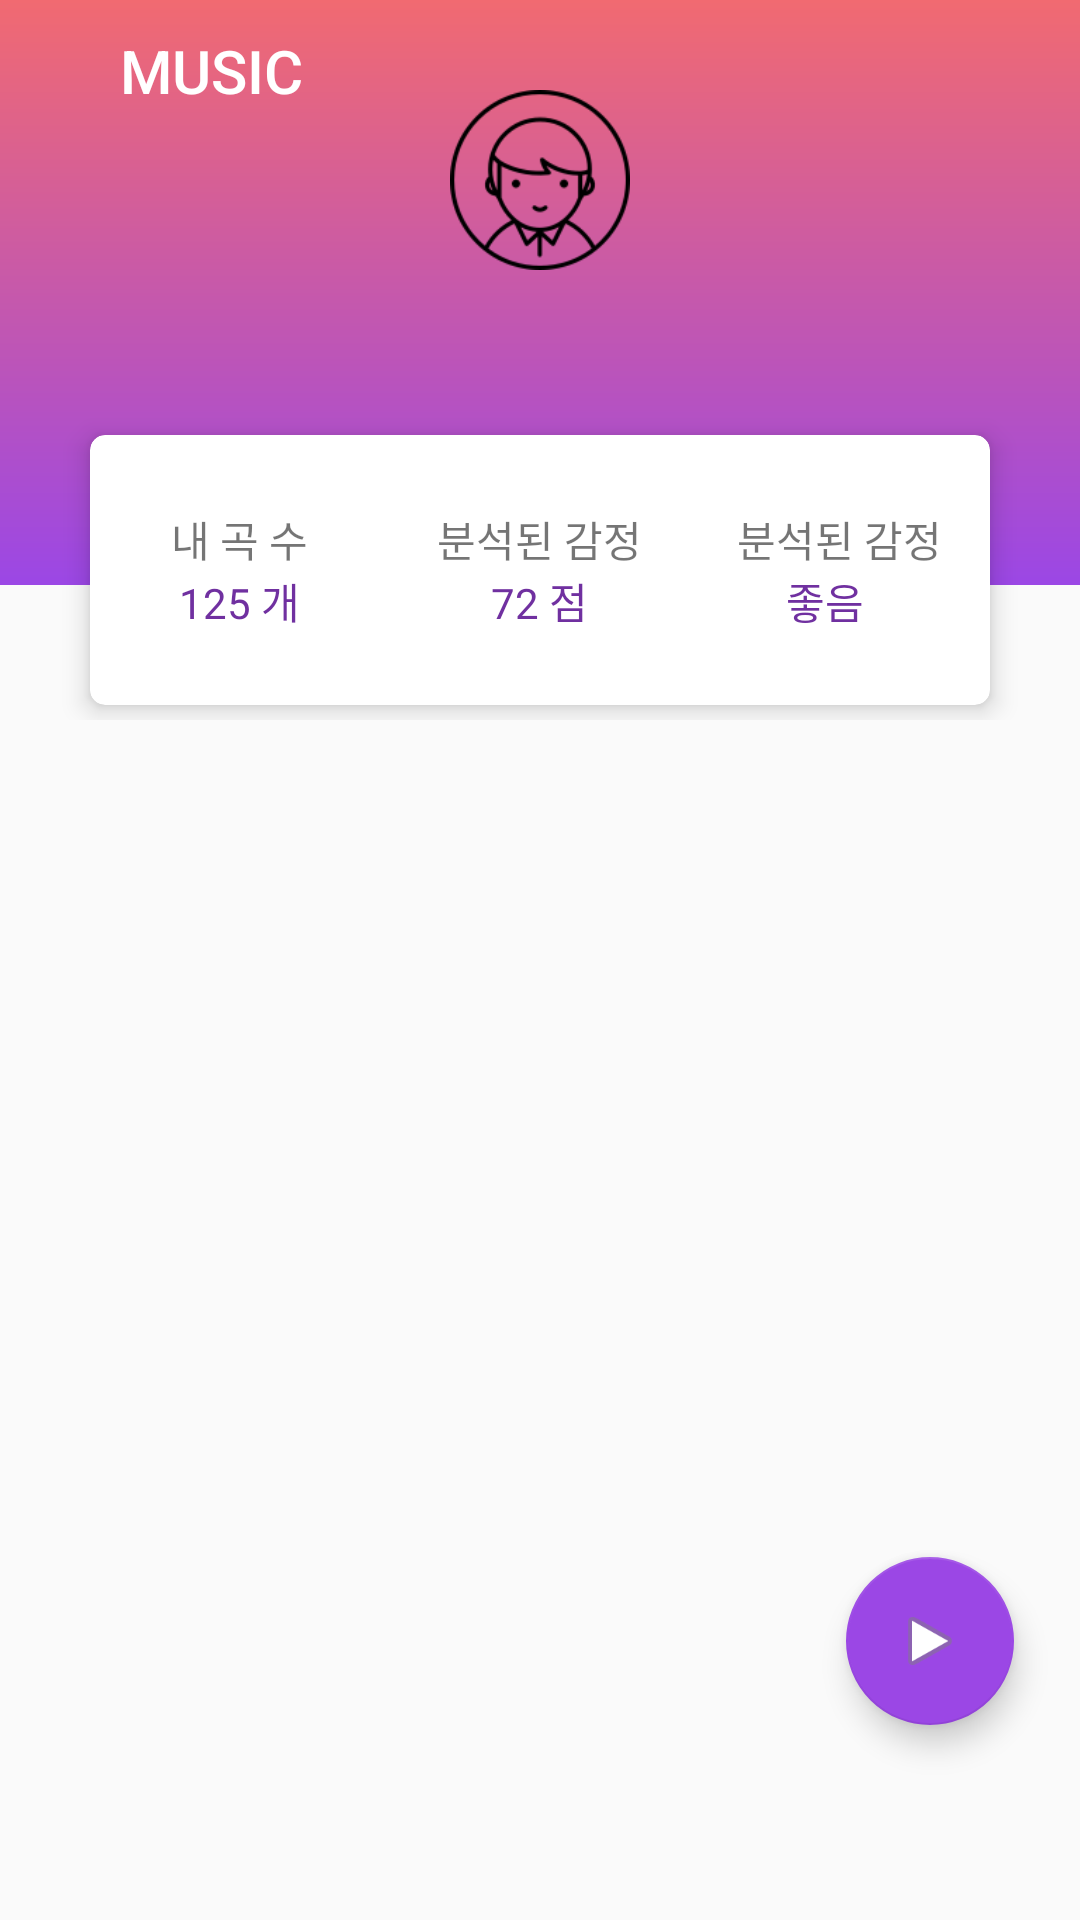

Where to tap for icons on this 1080*1920 app screen, as (x,y):
play: (930,1641)
profile boy: (540,180)
